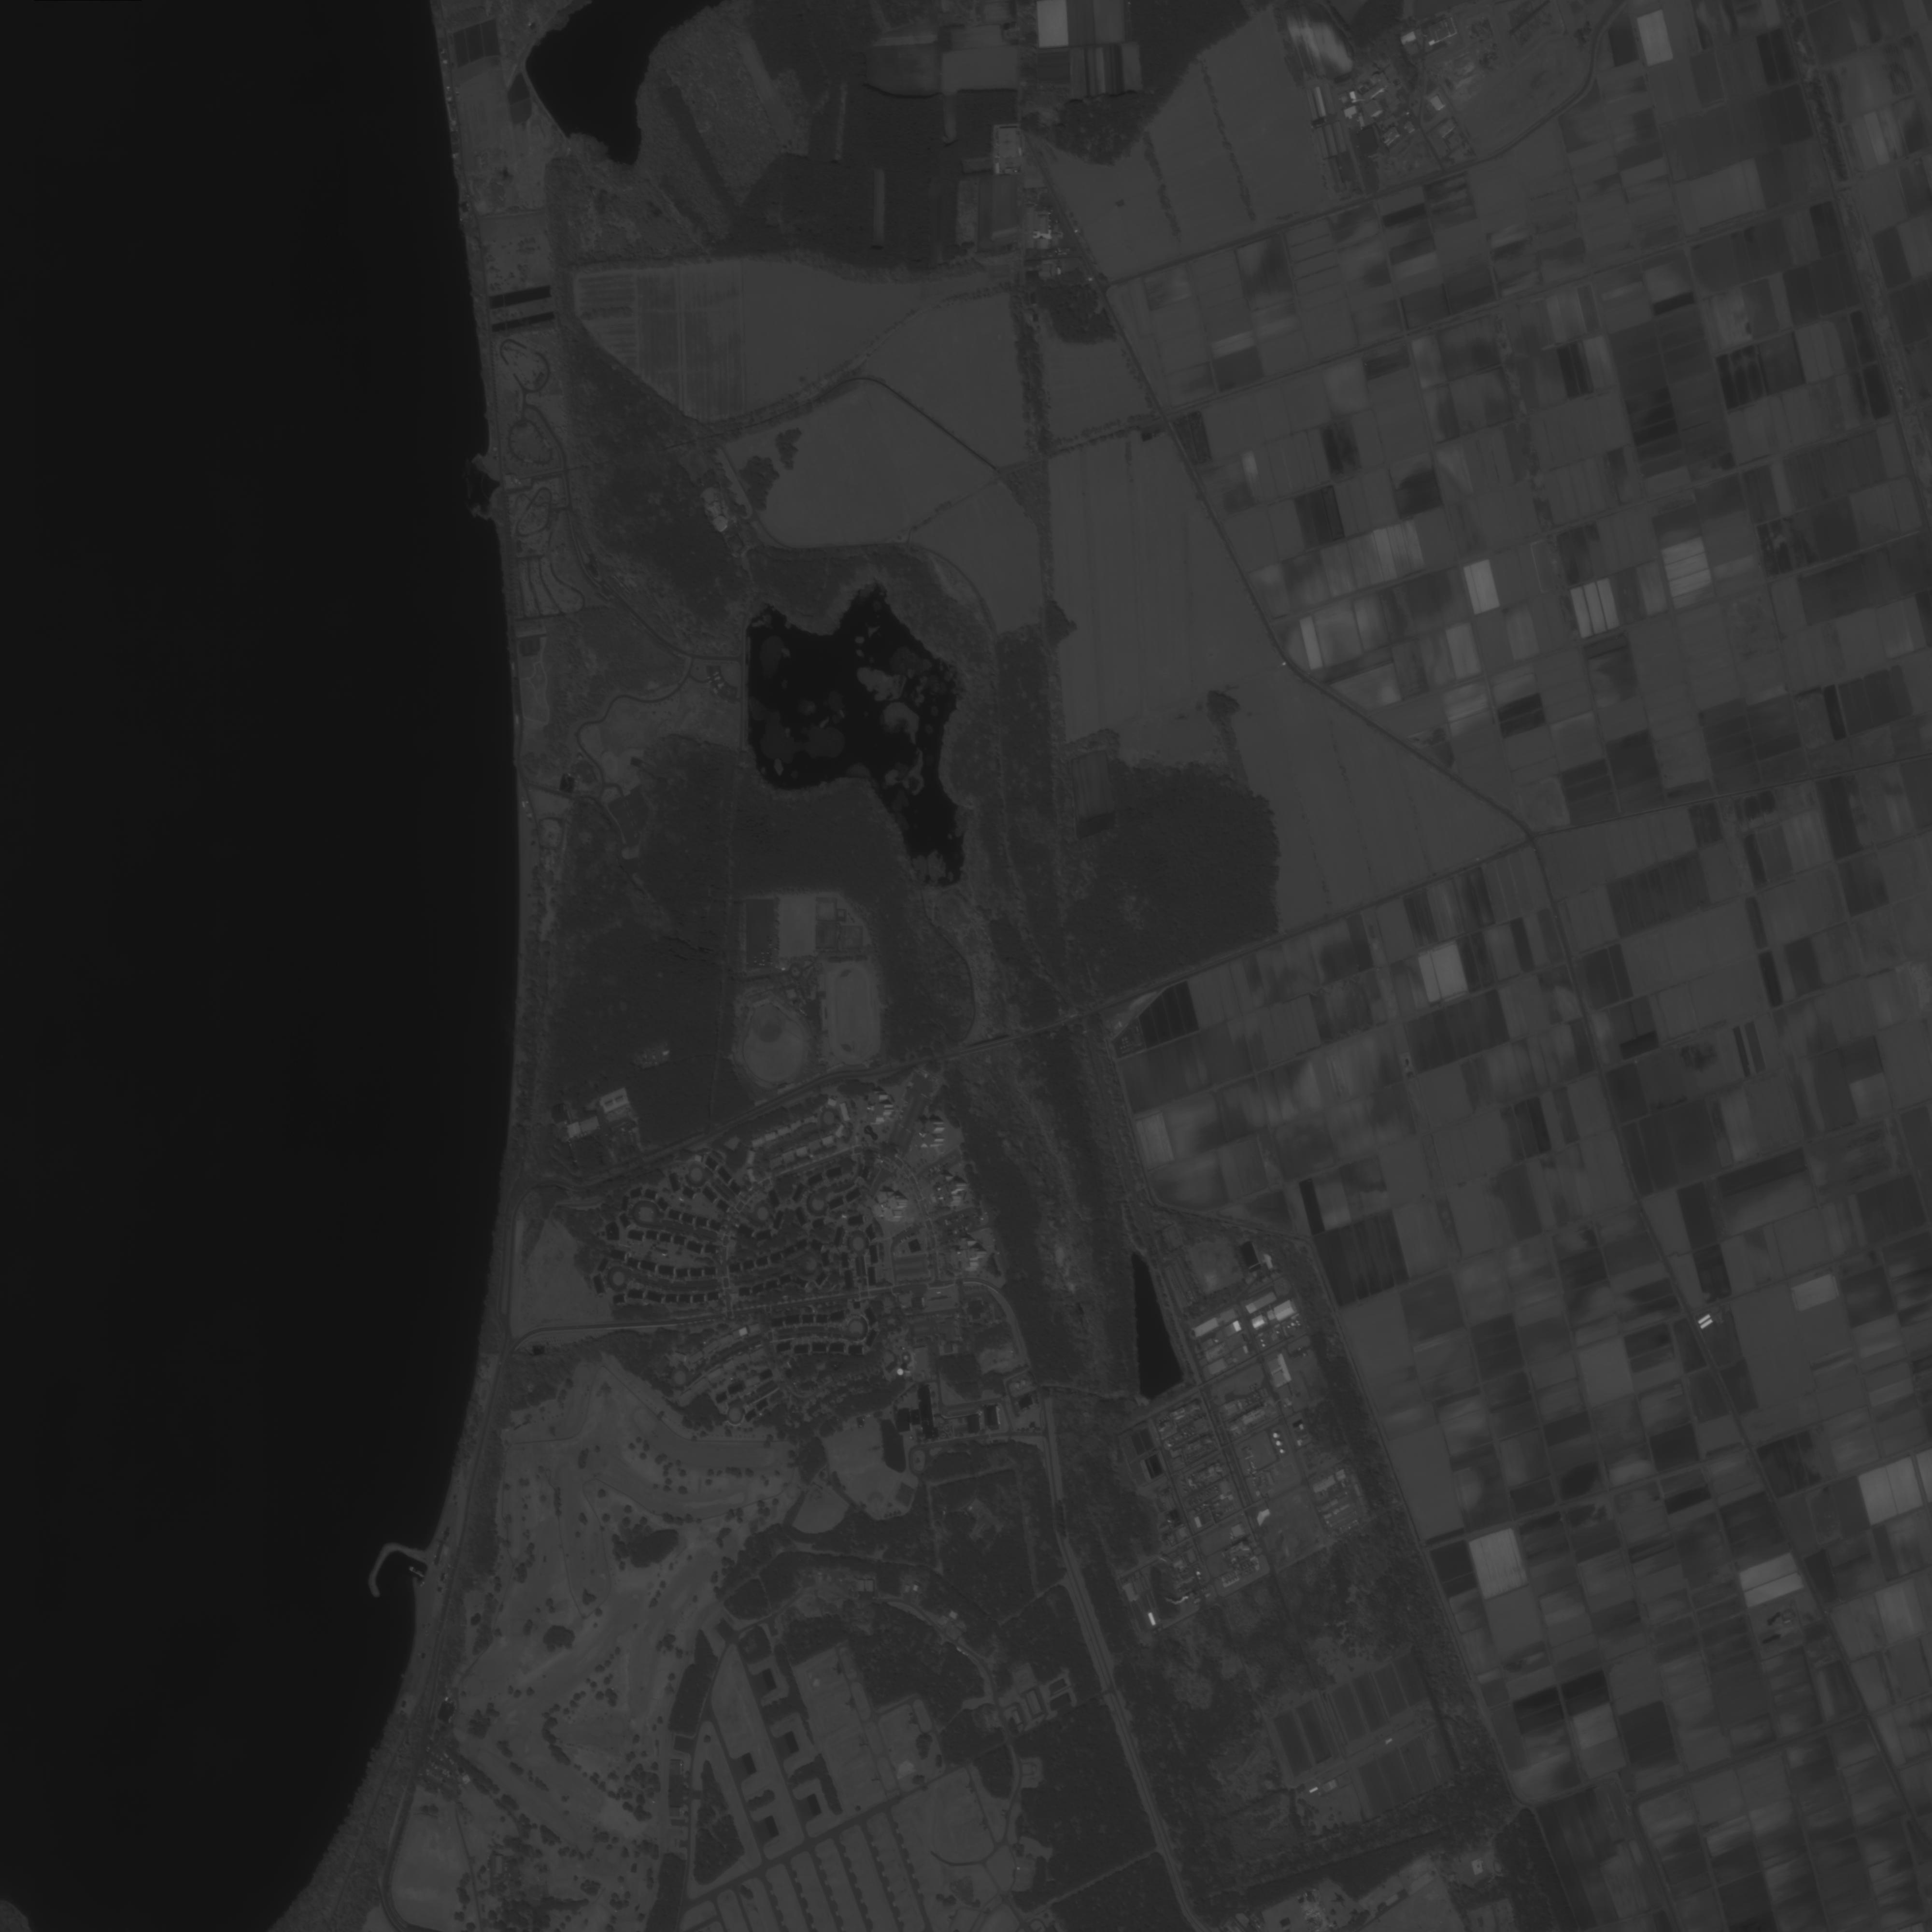harbor: (361, 1536, 426, 1610)
ship: (409, 1566, 425, 1578)
